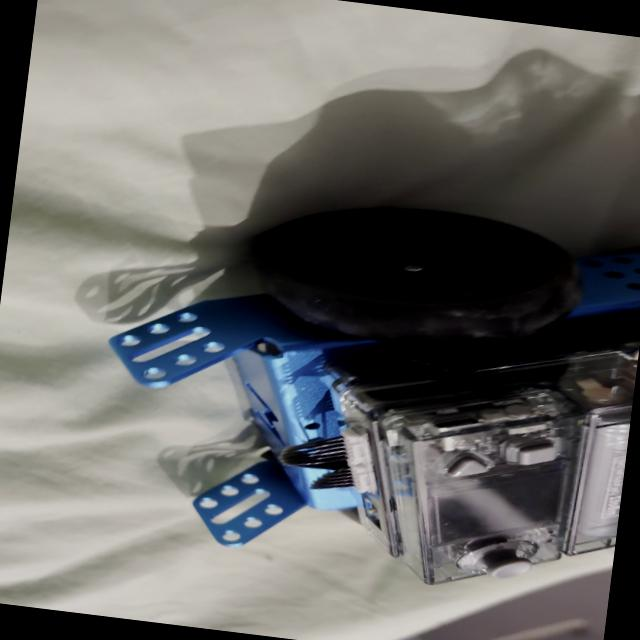mbot-detection: (69, 147, 640, 617)
